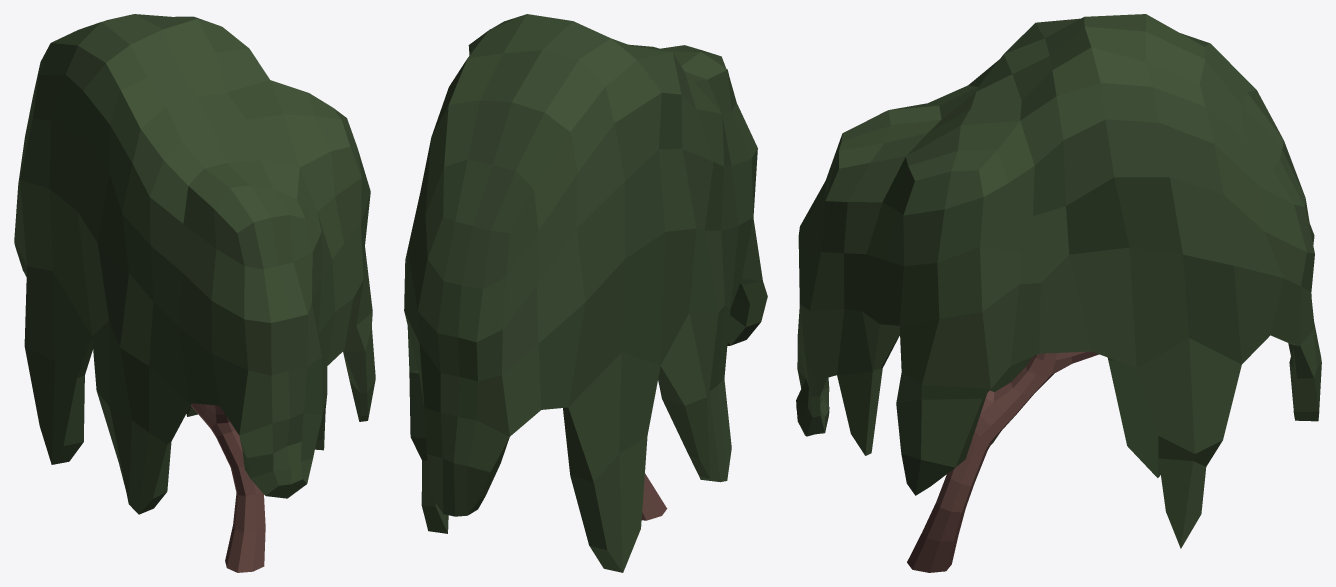
The model's file is willow1.glb.
3 views of the same model, side by side, from view 1: azimuth 30°, elevation 25°; view 2: azimuth 150°, elevation 25°; view 3: azimuth 270°, elevation 25° (orthographic). The views are drawn at different scales.
Parts seen in each view (by area): view 1: Willow_1; view 2: Willow_1; view 3: Willow_1.
Boxes of the visible parts, left/top/right/bottom form: Willow_1: left=14, top=14, right=375, bottom=572; Willow_1: left=404, top=14, right=767, bottom=572; Willow_1: left=796, top=14, right=1321, bottom=572.
Size of the model in its own units: 1.45 by 2.85 by 2.55.
